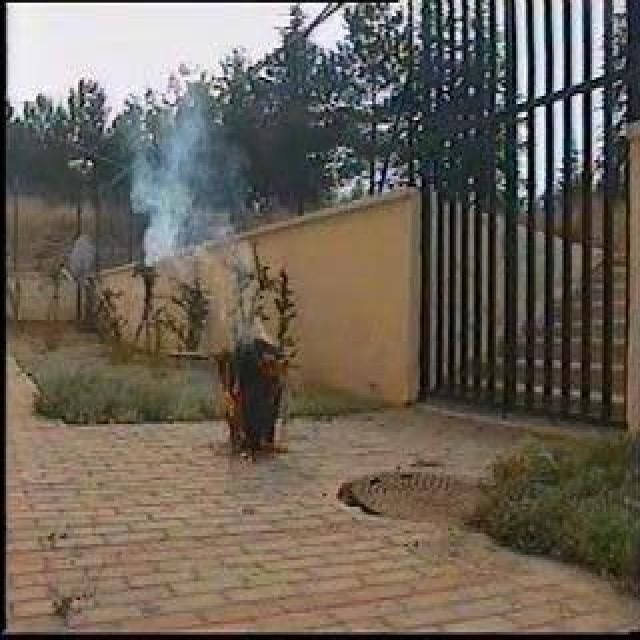smoke: (126, 117, 204, 264)
